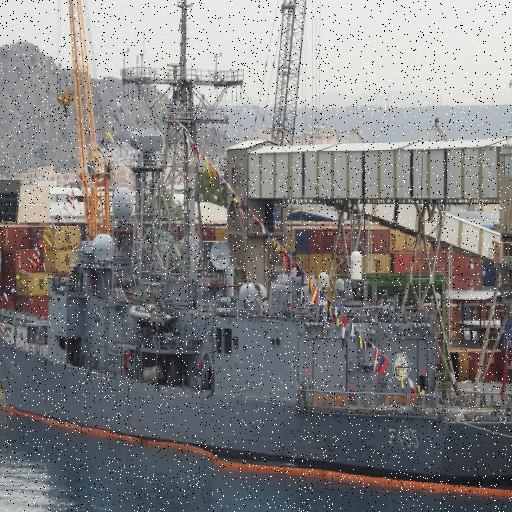Fragata: (1, 1, 512, 496)
